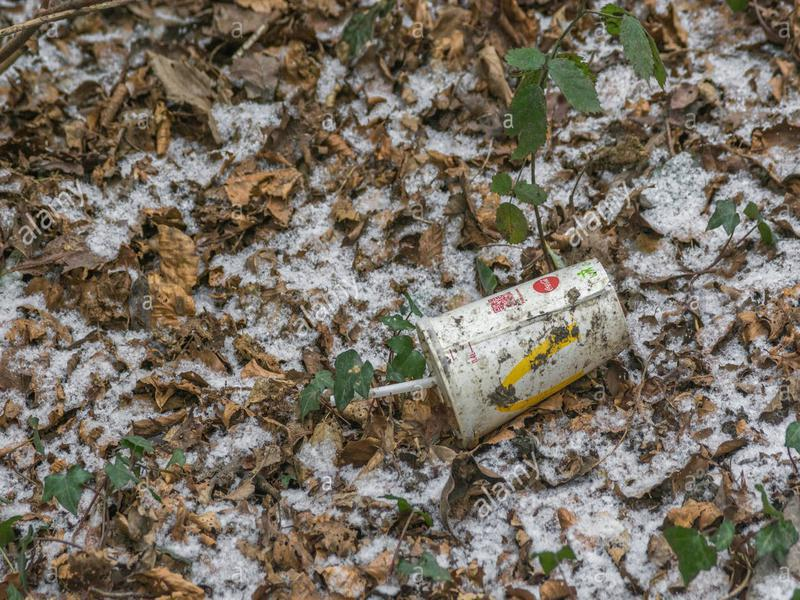cup: (361, 252, 649, 451)
leaf: (141, 220, 207, 297), (545, 54, 612, 120), (506, 81, 553, 168), (36, 461, 96, 524), (614, 14, 661, 86), (698, 194, 742, 241), (493, 199, 533, 249)
